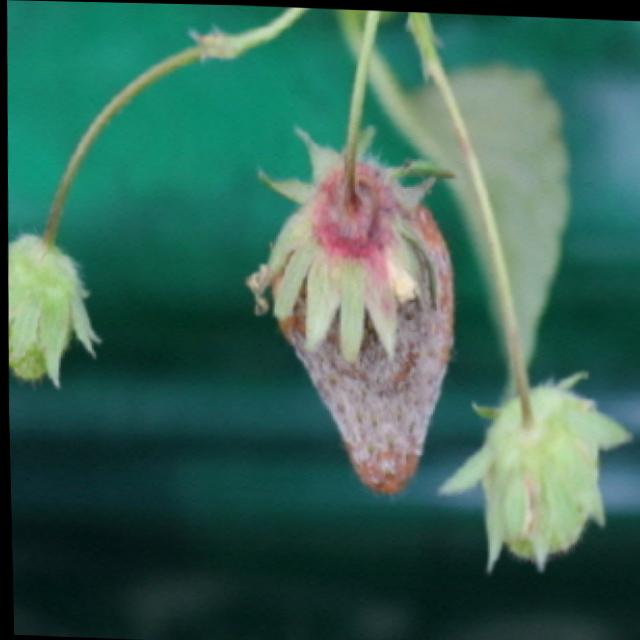Gray Mold: (244, 133, 456, 496)
